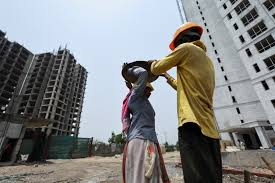arm: (183, 52, 224, 150), (119, 65, 156, 137), (136, 43, 186, 80)
human: (123, 14, 224, 180)
novest: (164, 42, 222, 147)
vest: (167, 41, 222, 142), (122, 94, 163, 180)
